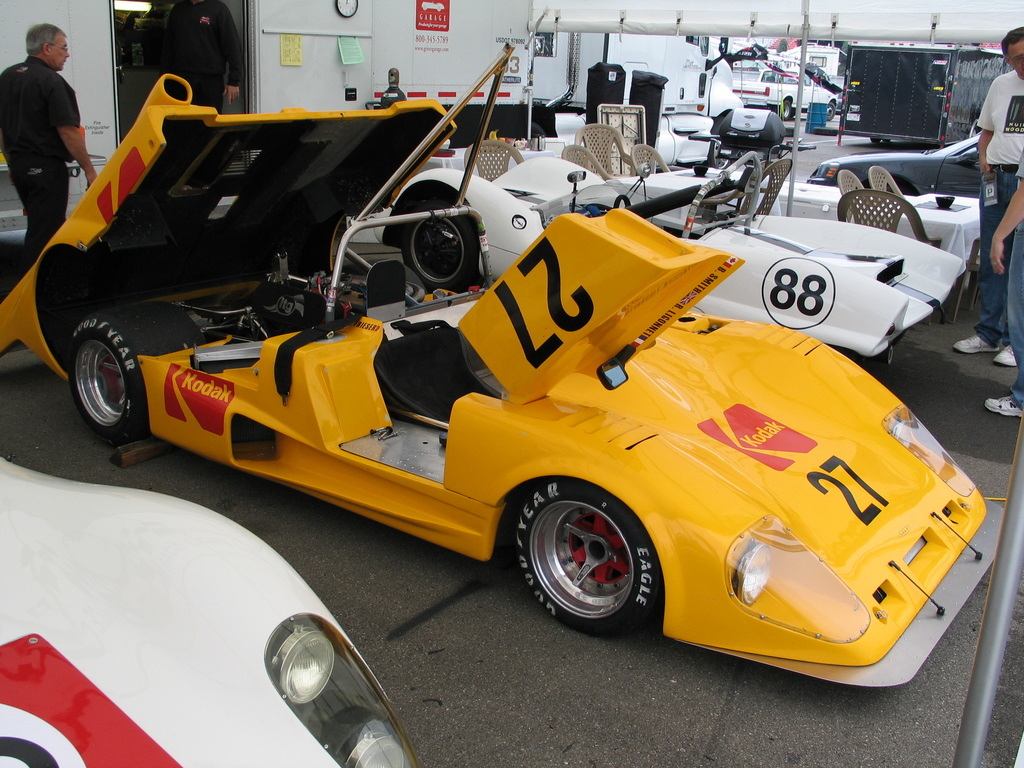Car: (70, 76, 981, 674), (0, 453, 420, 767), (384, 156, 971, 363), (806, 136, 979, 200)
